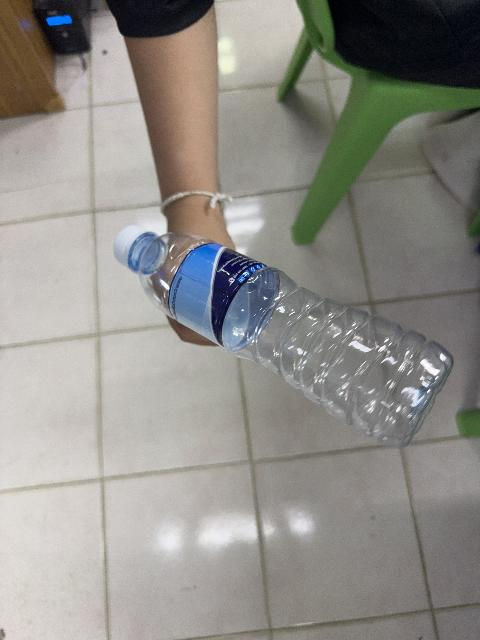bottle: (114, 226, 452, 446)
